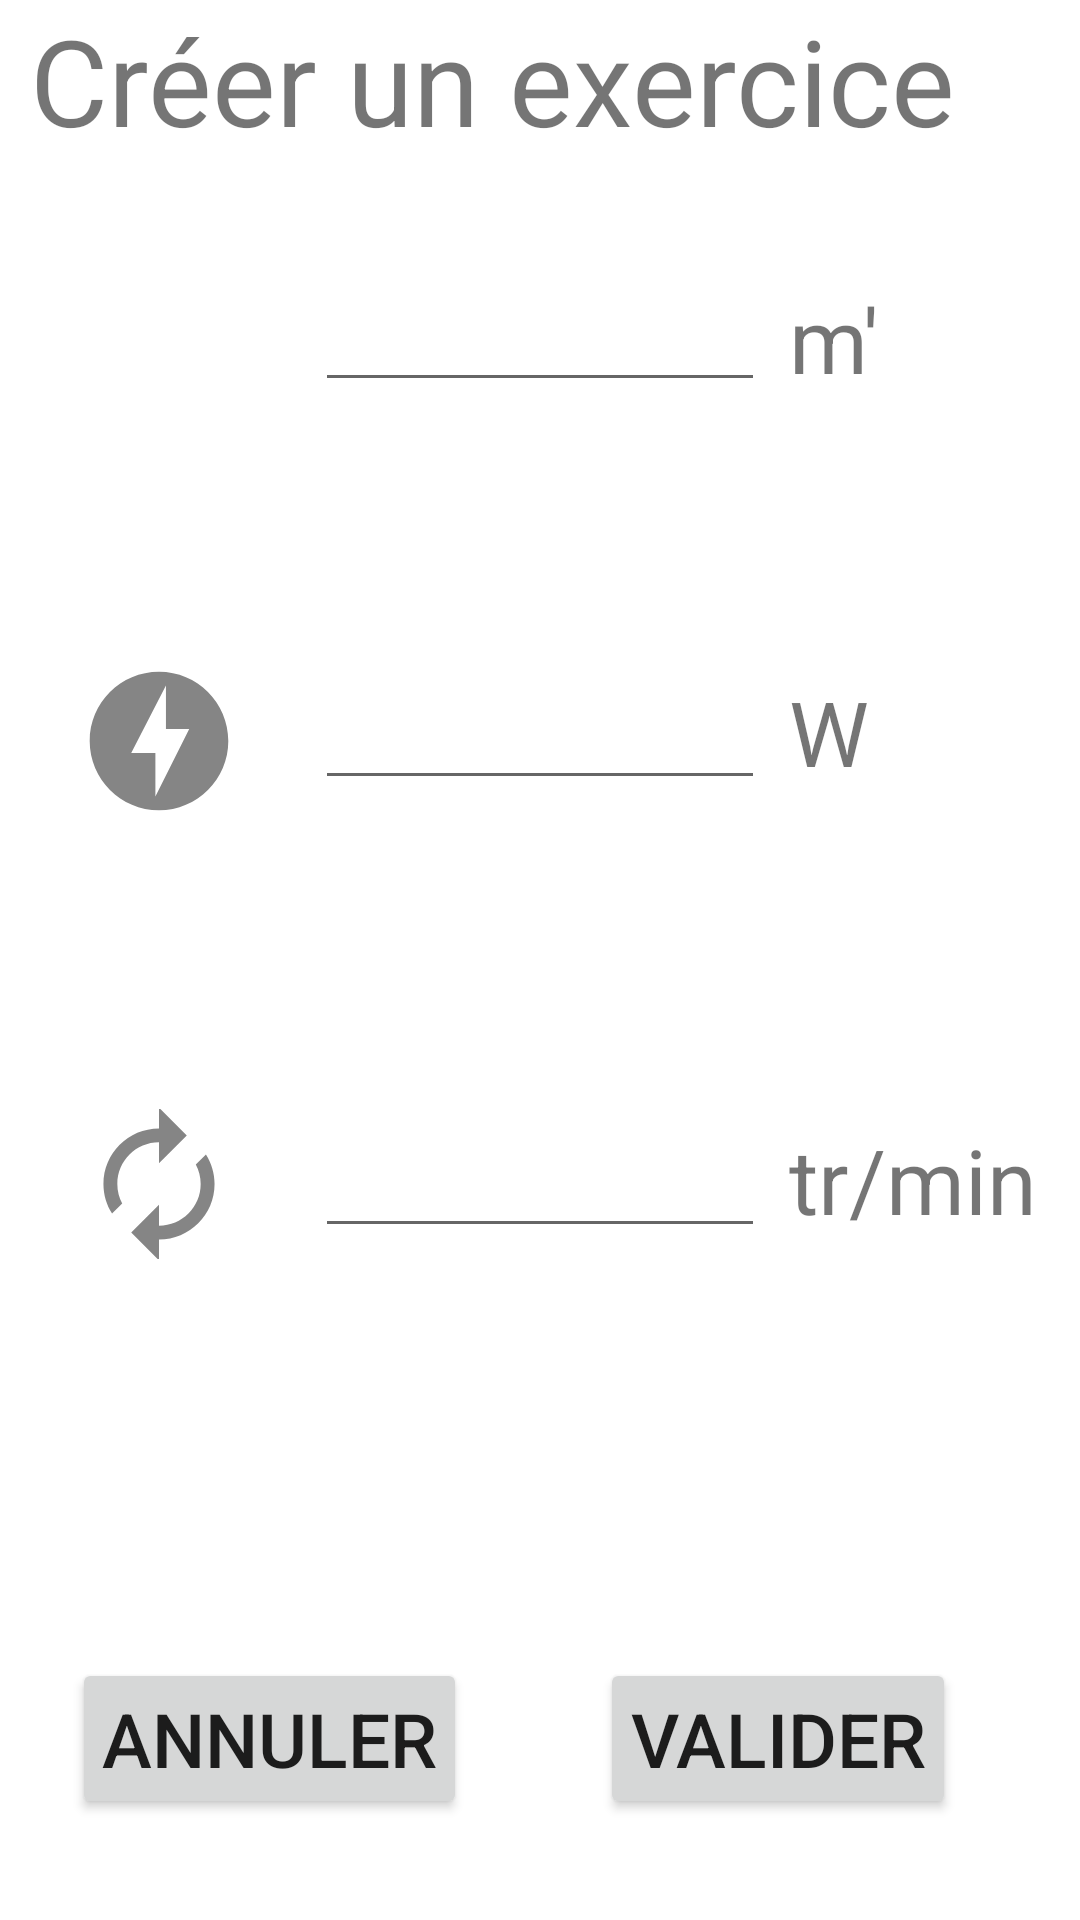

Screen size 1080 × 1920. Icon name, then its box in pixels as (x1, y1, x2, y2):
power: (89, 671, 229, 811)
